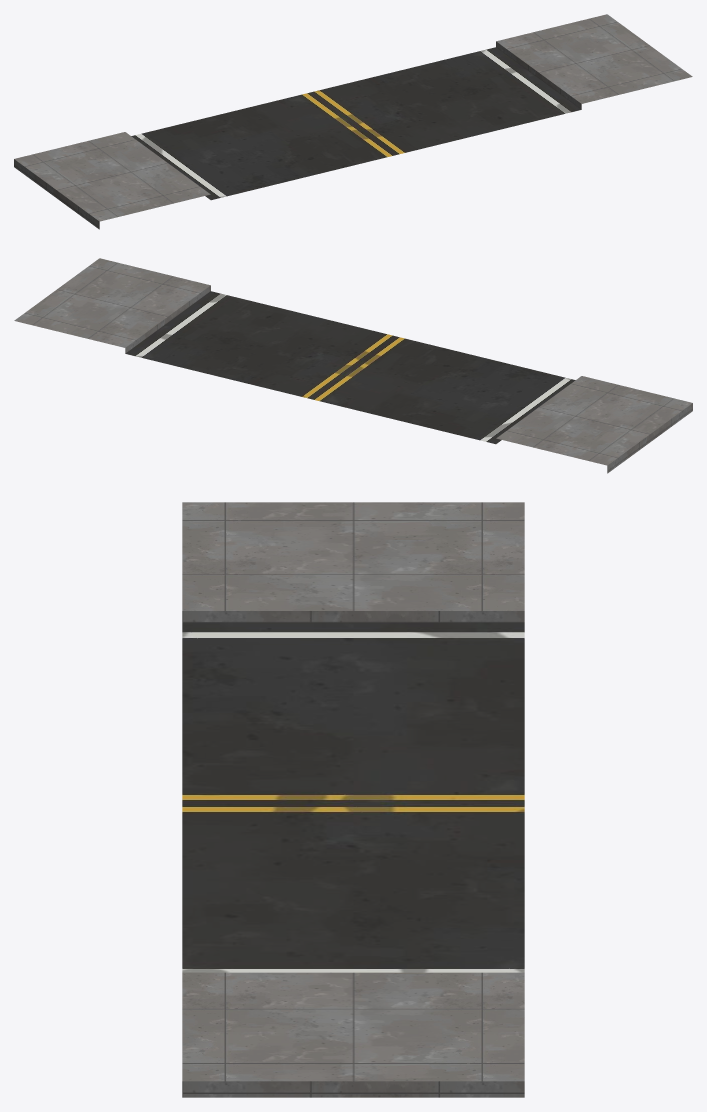
The model's file is road-seg-4.glb.
3 views of the same model, one above another, from view 1: azimuth 30°, elevation 25°; view 2: azimuth 150°, elevation 25°; view 3: azimuth 270°, elevation 25° (orthographic). The views are drawn at different scales.
Visible parts, largest first — view 1: road-seg-4; view 2: road-seg-4; view 3: road-seg-4.
Part boxes in pixels (bbox=[...]): road-seg-4: bbox=[14, 14, 692, 229]; road-seg-4: bbox=[14, 258, 692, 473]; road-seg-4: bbox=[182, 502, 524, 1097].
Size of the model in its own units: 16 by 0.21 by 4.
Materials: 2 (2 with a texture image).
